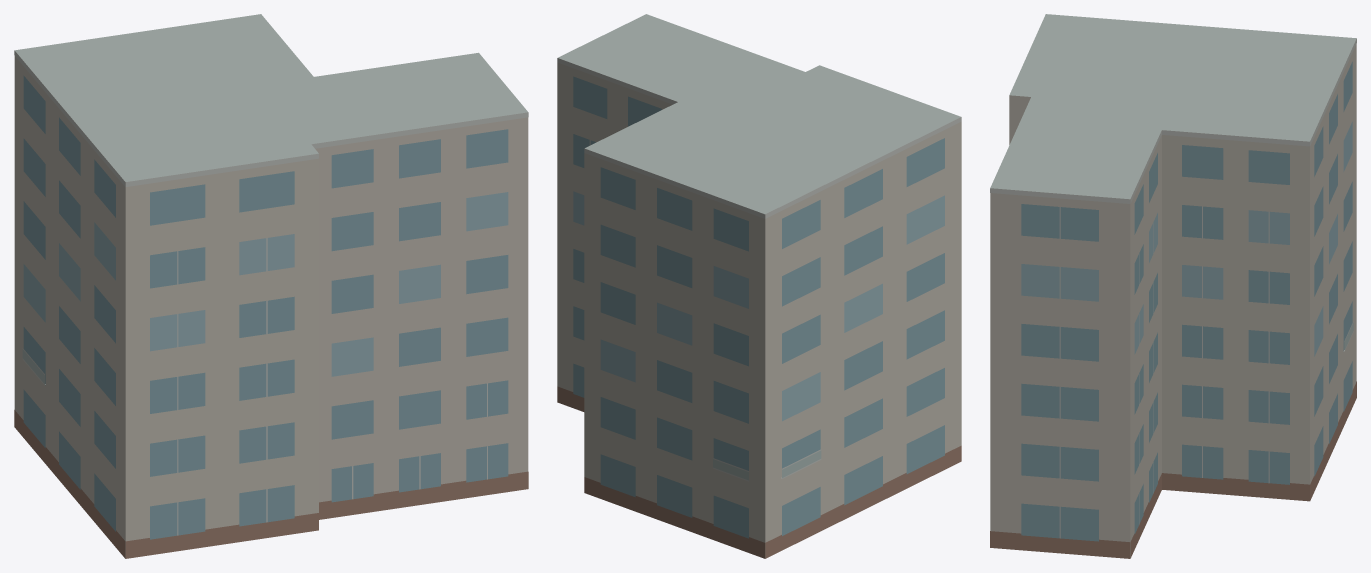
File: survey-upis-32665118.glb
3 views of the same model, side by side, from view 1: azimuth 30°, elevation 25°; view 2: azimuth 150°, elevation 25°; view 3: azimuth 270°, elevation 25° (orthographic). The views are drawn at different scales.
Visible parts, largest first — view 1: survey-upis-32665118.tmp; view 2: survey-upis-32665118.tmp; view 3: survey-upis-32665118.tmp.
Boxes of the visible parts, x1,y1,x2,y2 form: survey-upis-32665118.tmp: (14, 14, 528, 558); survey-upis-32665118.tmp: (557, 14, 961, 558); survey-upis-32665118.tmp: (990, 14, 1356, 558).
Bounding box in the file's own units: 20.23 × 18.3 × 16.92.
